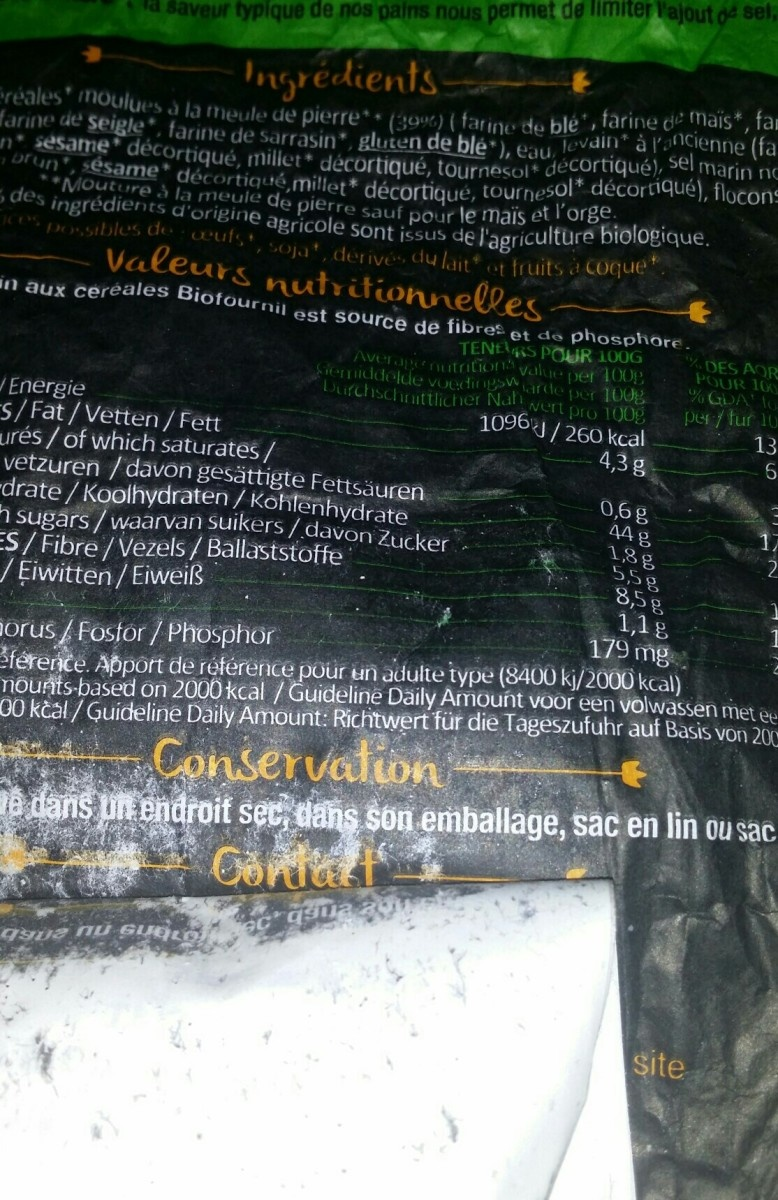ingredients: (1, 41, 776, 287)
